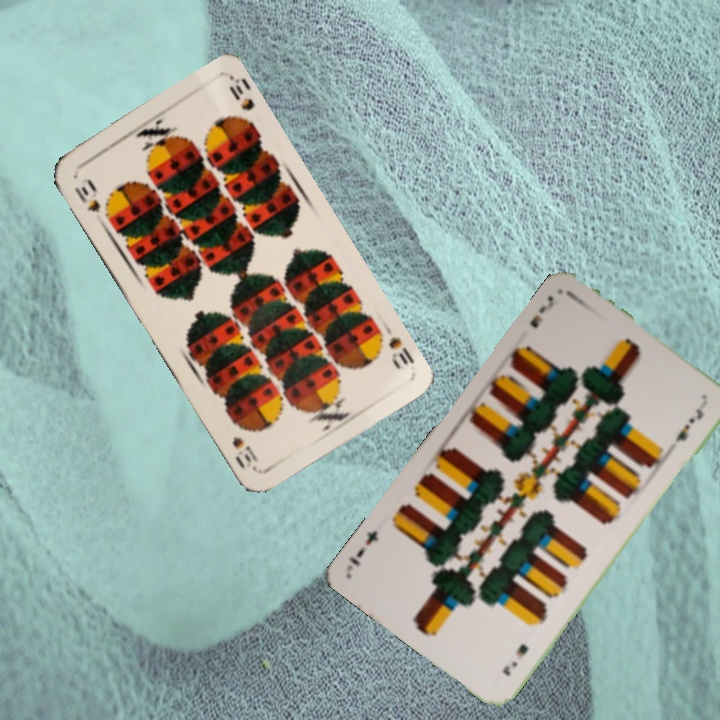E7: (498, 639, 531, 679), (526, 291, 557, 331)
S10: (70, 174, 103, 215), (384, 332, 417, 372)
